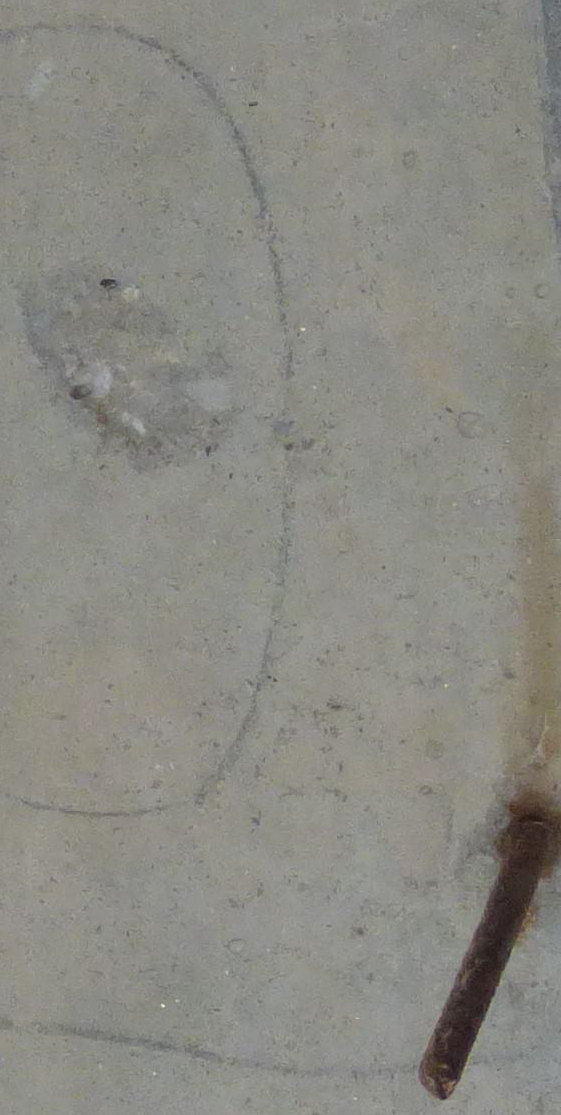Exposed reinforcement: (417, 823, 550, 1102)
Spalling: (11, 265, 237, 472)
